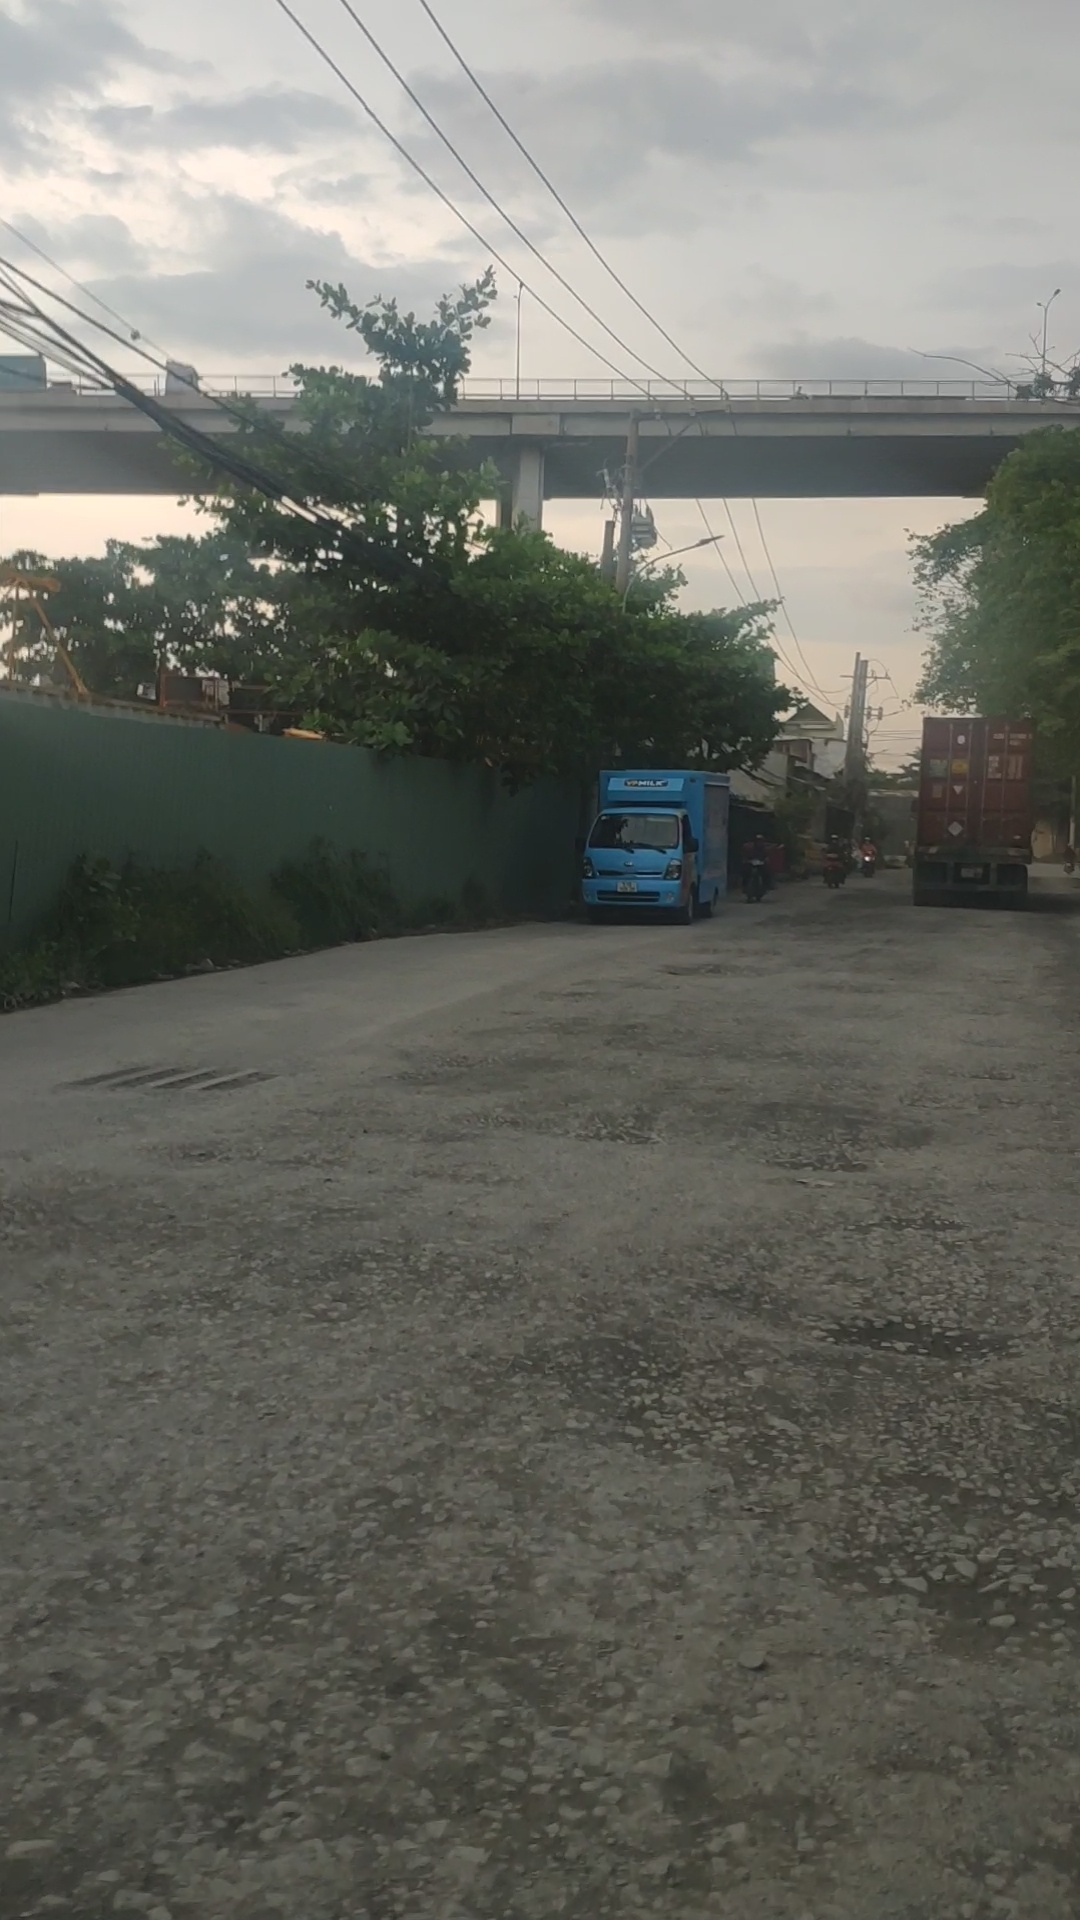hole: (535, 1333, 1080, 1565), (680, 1193, 1080, 1362), (436, 1081, 942, 1179), (115, 1126, 258, 1168), (376, 1048, 487, 1088), (646, 960, 778, 978), (790, 1001, 913, 1019), (907, 1063, 1025, 1081), (526, 986, 618, 1004), (799, 980, 899, 994), (669, 945, 787, 957), (951, 1002, 1013, 1017)
